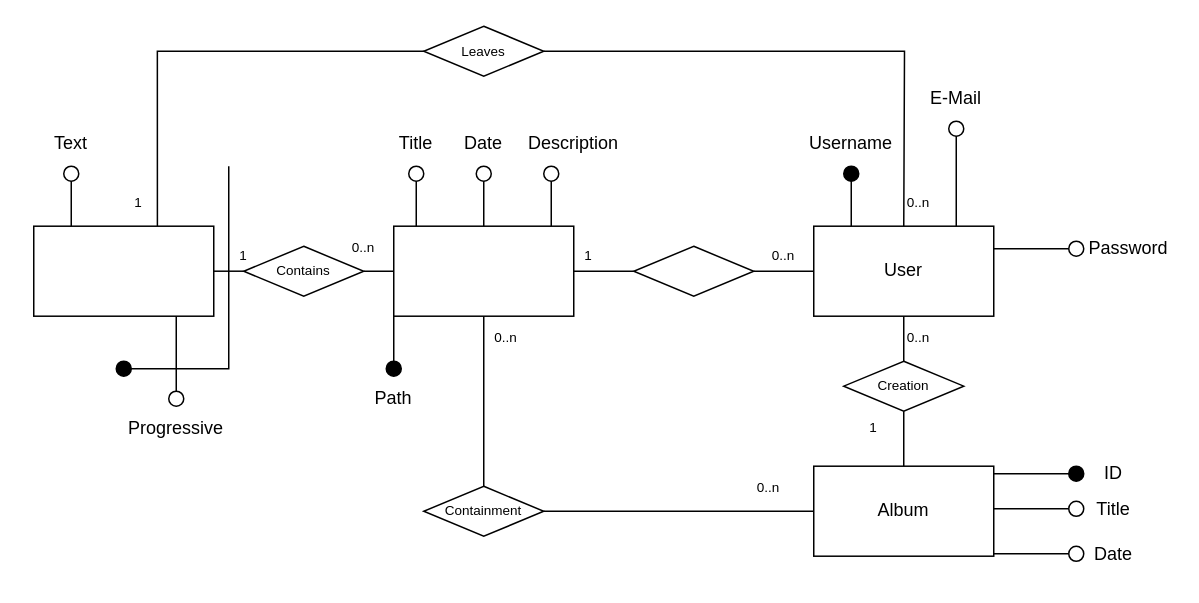
The diagram is 1199 pixels wide and 603 high, and some of its shapes have lost their labels. The shapes that lost their labels are listed below. From the top down, each one's centre as x and y in pixels, then its label:
the point at 123,270: Comment
the point at 483,270: Image
the point at 693,270: Upload
